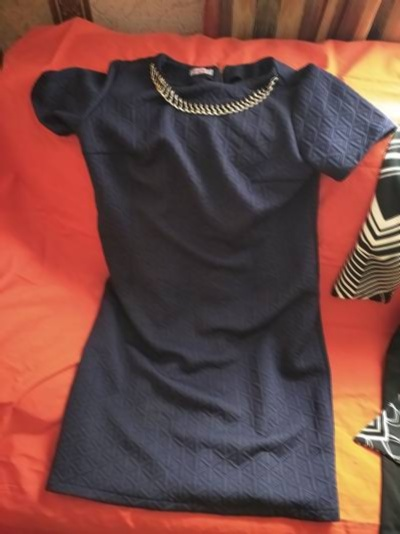Dress: (25, 52, 372, 523)
